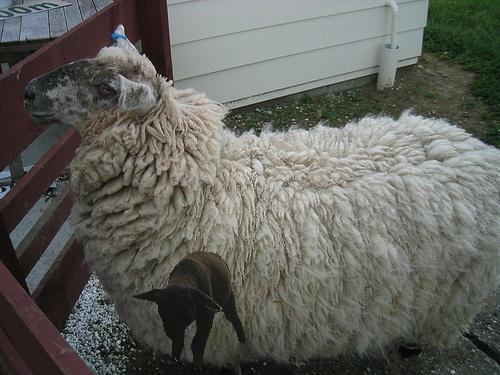tampered: (133, 252, 245, 367)
